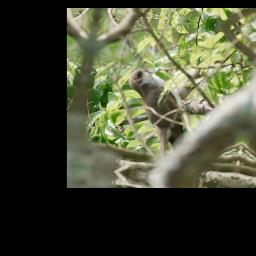Cuckoo: (113, 59, 199, 162)
